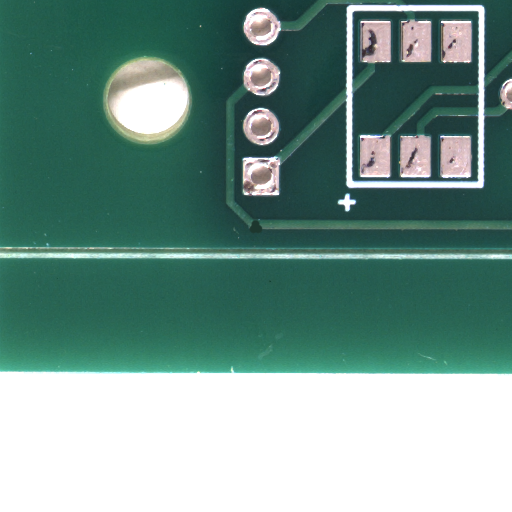Mouse_bite: (255, 226, 268, 239)
